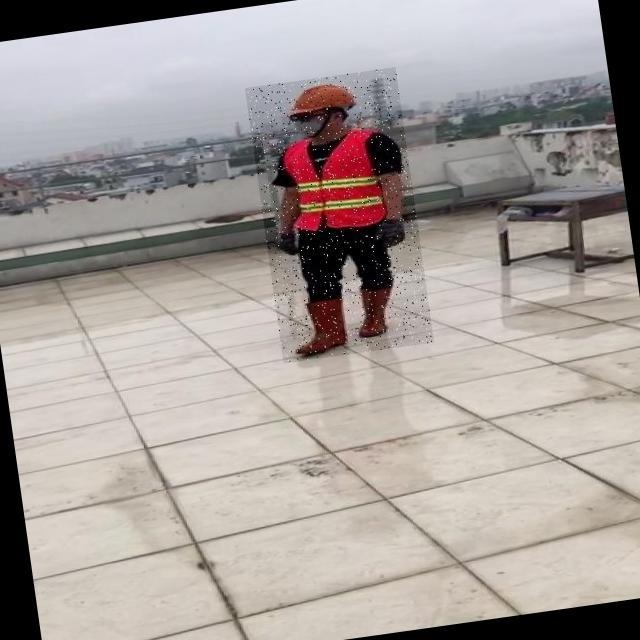Gloves: (371, 218, 409, 251), (270, 229, 303, 258)
Helmet: (287, 80, 360, 117)
Human: (245, 68, 434, 364)
Safety Boot: (290, 296, 353, 356), (354, 285, 398, 338)
Safety Vest: (281, 129, 389, 234)
